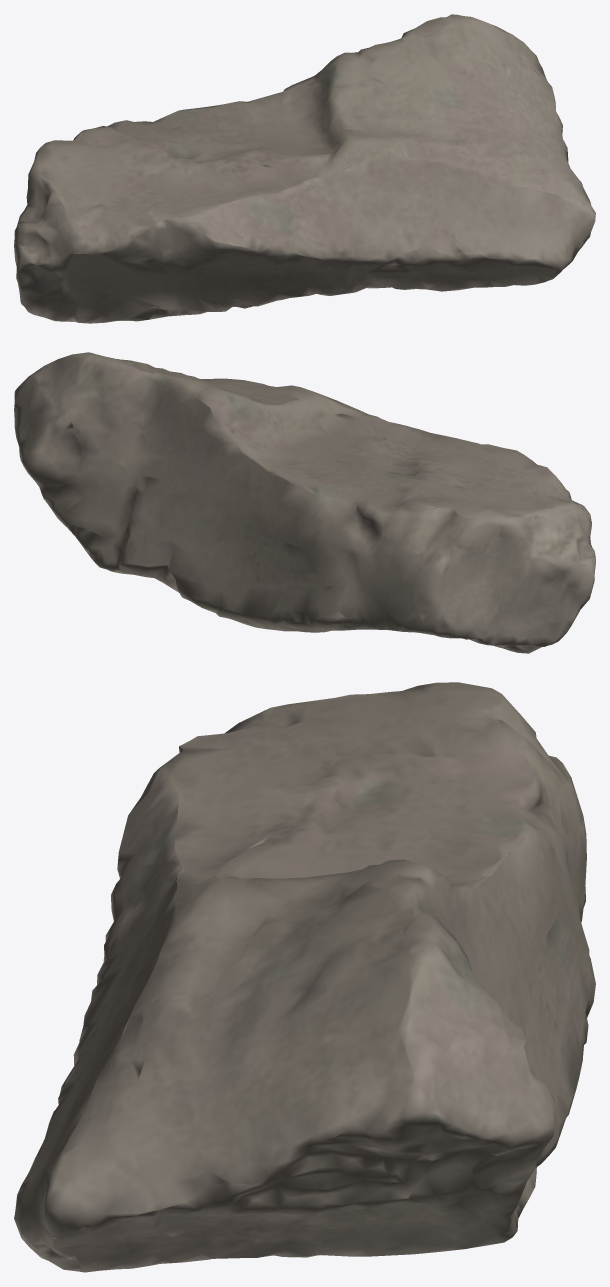
Rendered from granite.glb.
The picture shows the model from 3 angles, top to bottom: view 1: azimuth 30°, elevation 25°; view 2: azimuth 150°, elevation 25°; view 3: azimuth 270°, elevation 25°; orthographic projection. The views are drawn at different scales.
Visible parts, largest first — view 1: moon_rock_01_LOD0; view 2: moon_rock_01_LOD0; view 3: moon_rock_01_LOD0.
Boxes of the visible parts, box(x1,y1,x2,y2) form: moon_rock_01_LOD0: box(14, 14, 595, 323); moon_rock_01_LOD0: box(14, 352, 595, 653); moon_rock_01_LOD0: box(14, 682, 595, 1272).
Size of what is drawn, in the model's own units: 0.2121 by 0.0751 by 0.1116.
Materials: 1 (1 with a texture image).
